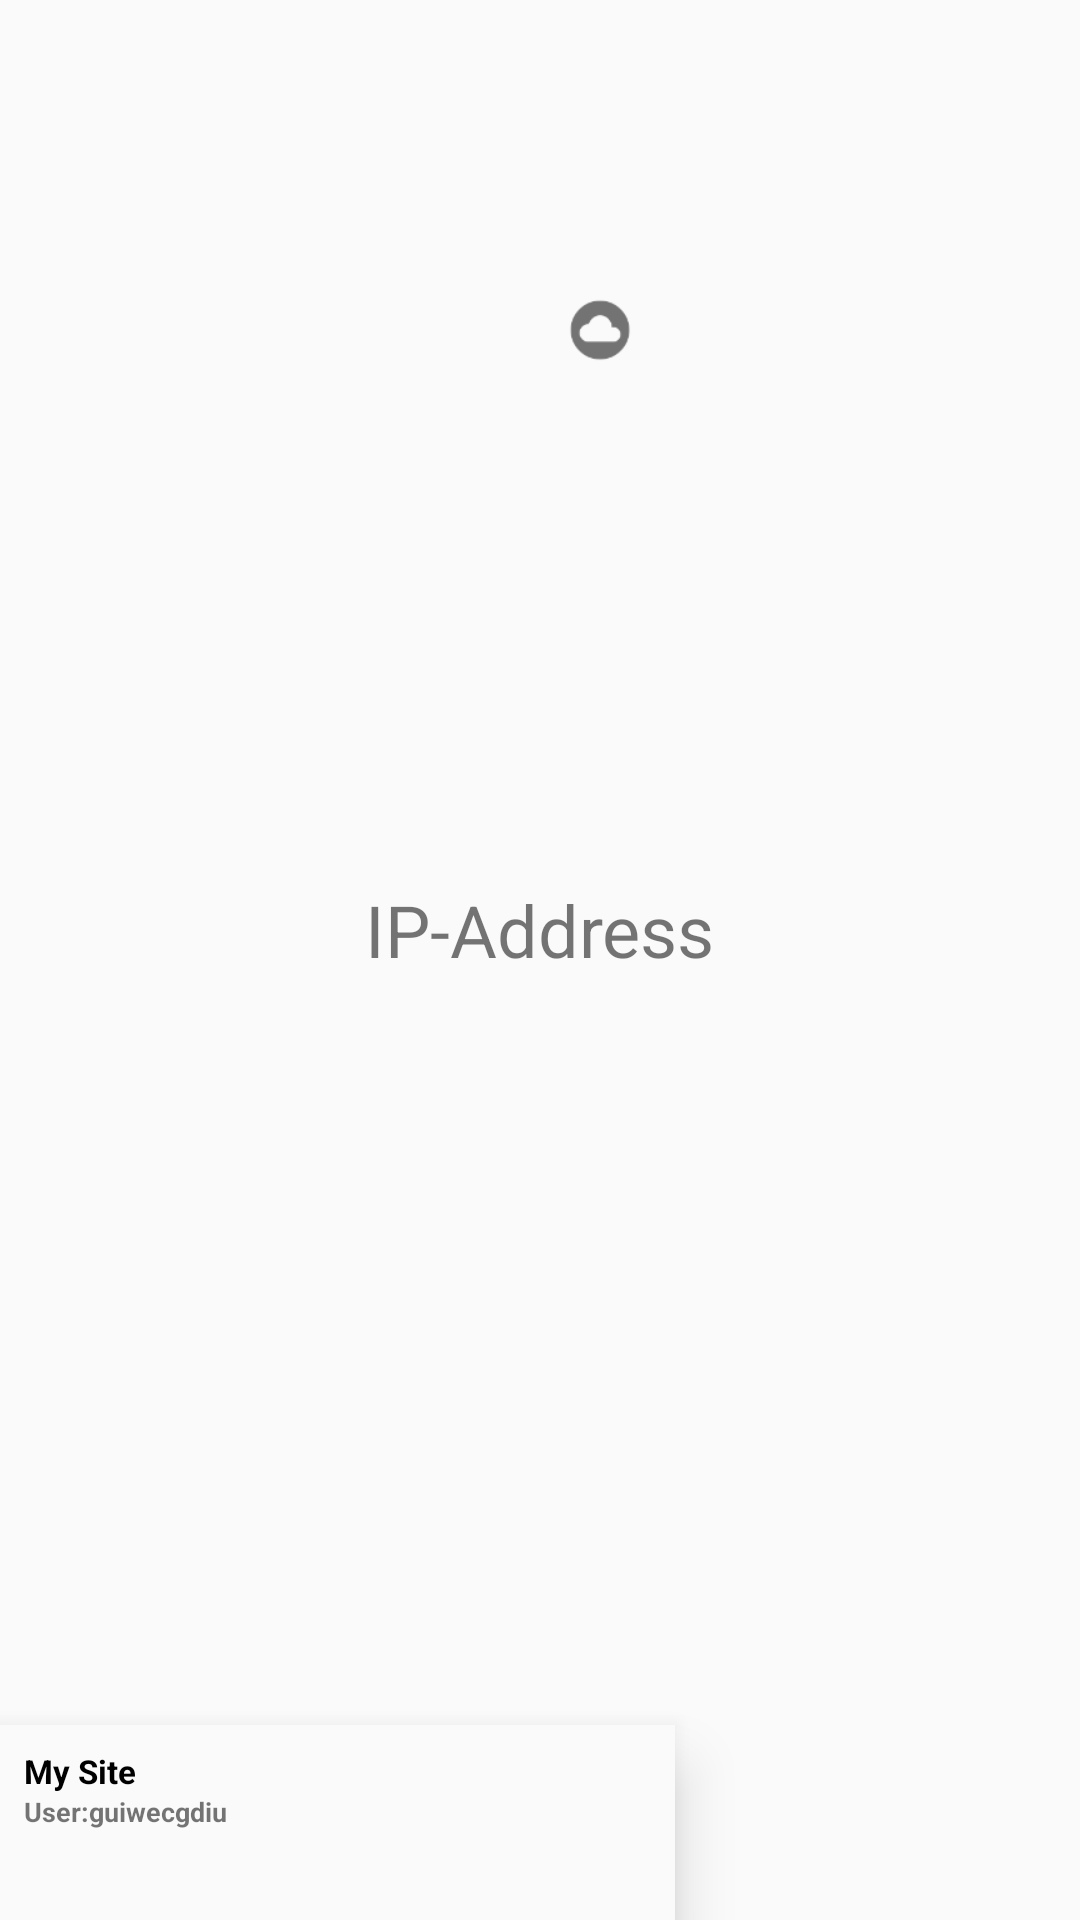

Where to tap for icons on this 1080*1920 app screen, as [x,y]:
cloud circle: [600,330]
